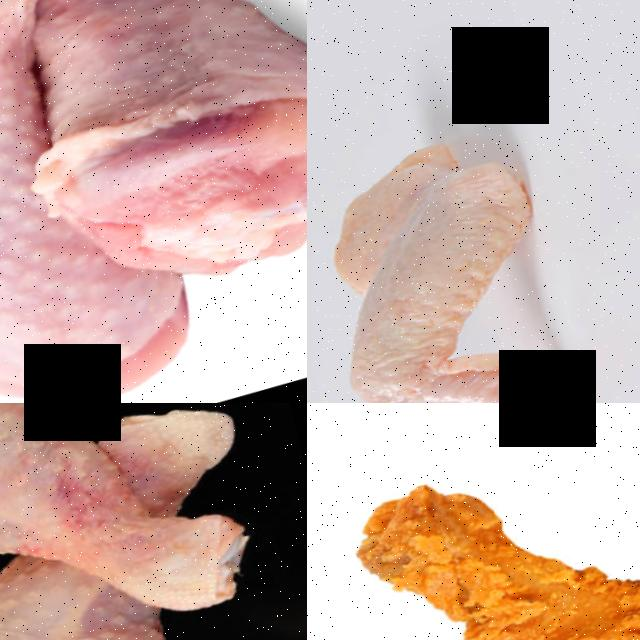chicken thigh: (323, 403, 640, 640), (0, 403, 272, 640)
chicken wing: (307, 106, 634, 403)
